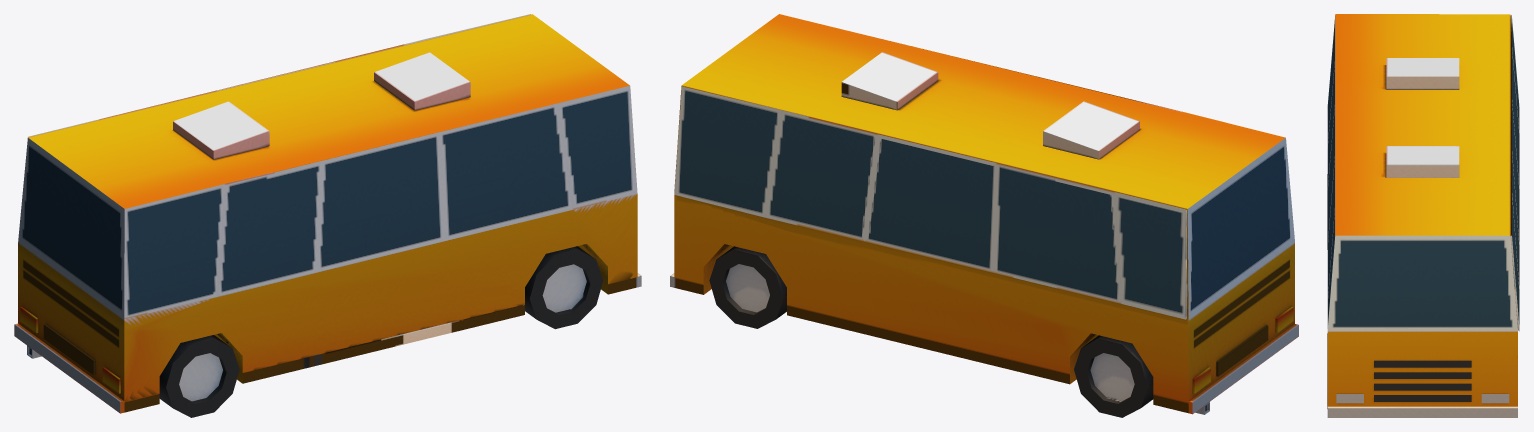
Rendered from bus1.gltf.
3 renders of one model, left to right at view 1: azimuth 30°, elevation 25°; view 2: azimuth 150°, elevation 25°; view 3: azimuth 270°, elevation 25°, orthographic. The views are drawn at different scales.
Parts seen in each view (by area): view 1: Bus1n_1; view 2: Bus1n_1; view 3: Bus1n_1.
Part boxes in pixels (box(x1,y1,x2,y2)): Bus1n_1: box(14, 14, 641, 417); Bus1n_1: box(670, 14, 1298, 417); Bus1n_1: box(1327, 14, 1519, 417).
Bounding box in the file's own units: 8.56 × 3.7 × 3.04.
1 material, 1 textured.
